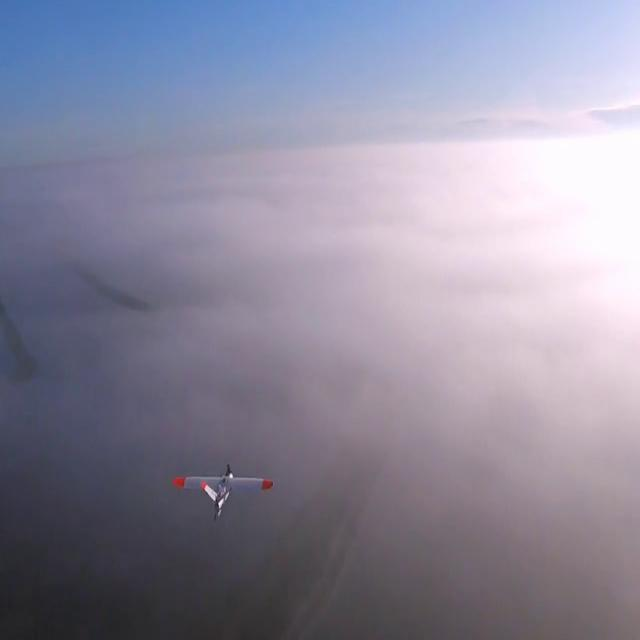iha: (204, 468, 242, 516)
